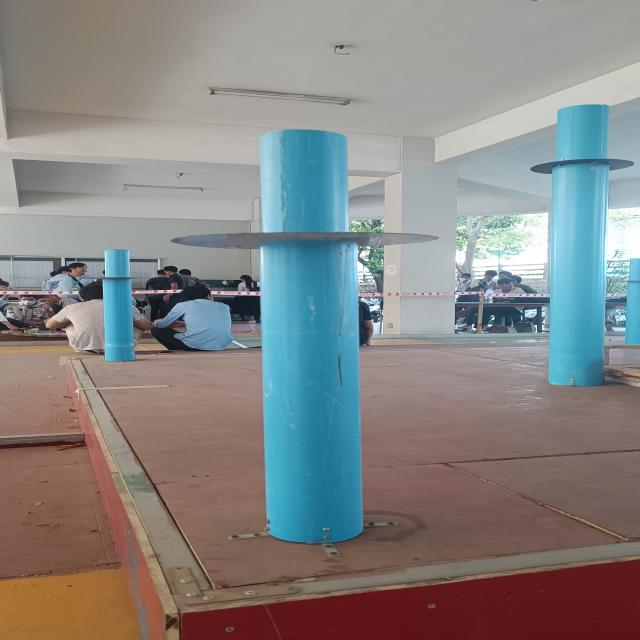pole: (166, 123, 447, 343), (522, 108, 633, 203)
